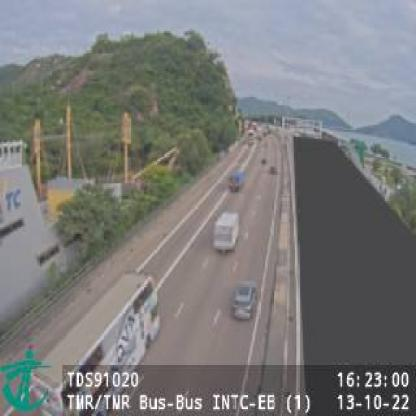Bus: (32, 272, 160, 416)
Car: (230, 278, 258, 320)
Truck: (214, 210, 240, 254), (228, 167, 246, 194)
